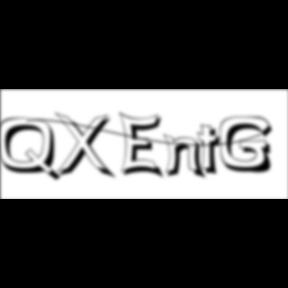E: (119, 110, 168, 182)
G: (220, 116, 278, 176)
Q: (0, 117, 64, 184)
X: (54, 112, 118, 182)
n: (164, 132, 210, 181)
t: (198, 124, 228, 179)
